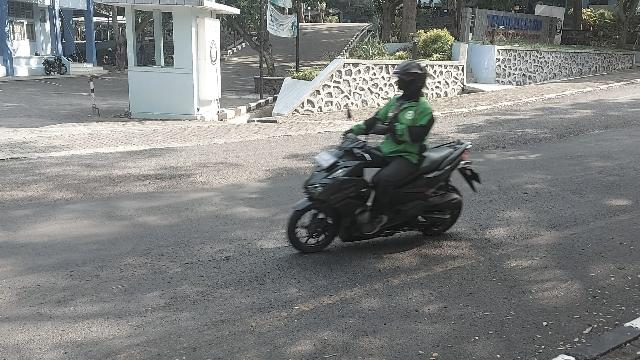helm: (395, 62, 428, 94)
motor: (288, 111, 484, 255)
